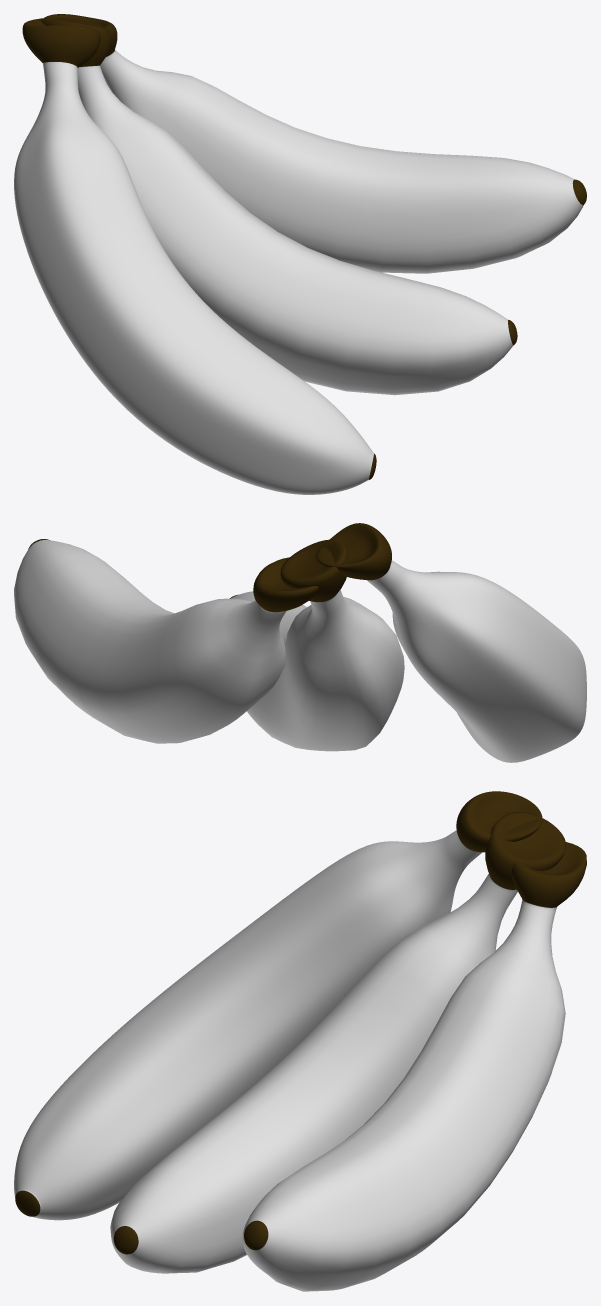
Rendered from Banana.glb.
The picture shows the model from 3 angles, top to bottom: view 1: azimuth 30°, elevation 25°; view 2: azimuth 150°, elevation 25°; view 3: azimuth 270°, elevation 25°; orthographic projection. The views are drawn at different scales.
Visible parts, largest first — view 1: Cylinder.009, Cylinder.007, Cylinder.010; view 2: Cylinder.010, Cylinder.009, Cylinder.007; view 3: Cylinder.009, Cylinder.010, Cylinder.007.
Boxes of the visible parts, x1,y1,x2,y2 form: Cylinder.009: (14,18,376,494); Cylinder.007: (40,18,517,395); Cylinder.010: (44,14,586,273); Cylinder.010: (14,539,318,743); Cylinder.009: (316,523,586,762); Cylinder.007: (230,539,404,751); Cylinder.009: (14,791,542,1220); Cylinder.010: (242,842,586,1291); Cylinder.007: (110,812,565,1273).
Bounding box in the file's own units: 6.85 × 4.38 × 5.94.
